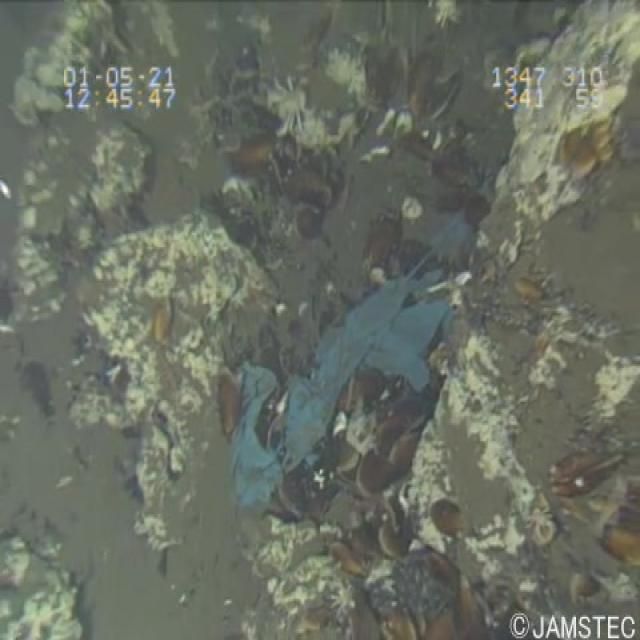plastic: (220, 194, 481, 519)
